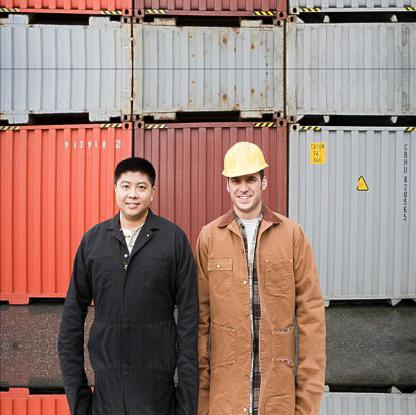head: (108, 151, 162, 217)
helmet: (221, 140, 269, 209)
